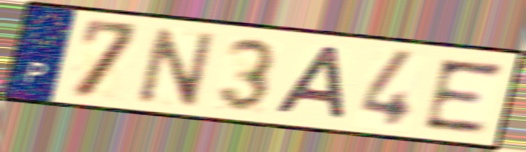3: (216, 36, 282, 113)
4: (355, 45, 420, 133)
7: (73, 16, 145, 102)
A: (270, 43, 349, 124)
E: (421, 56, 506, 135)
N: (134, 24, 219, 109)
